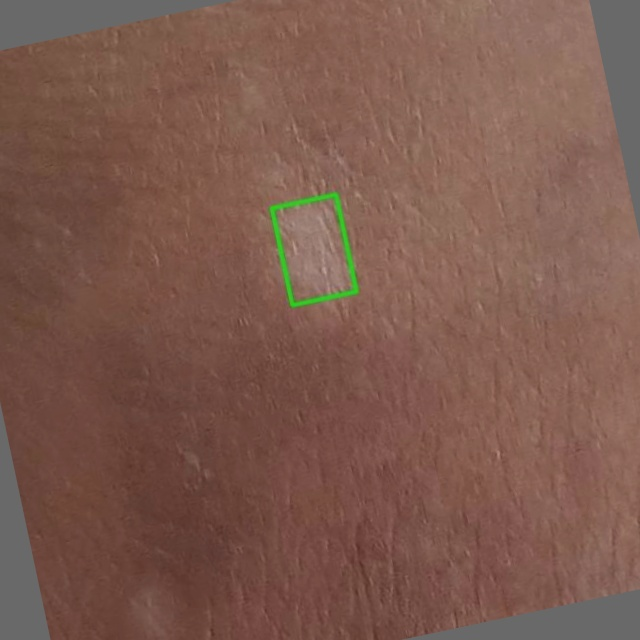Eczema: (271, 194, 356, 305)
